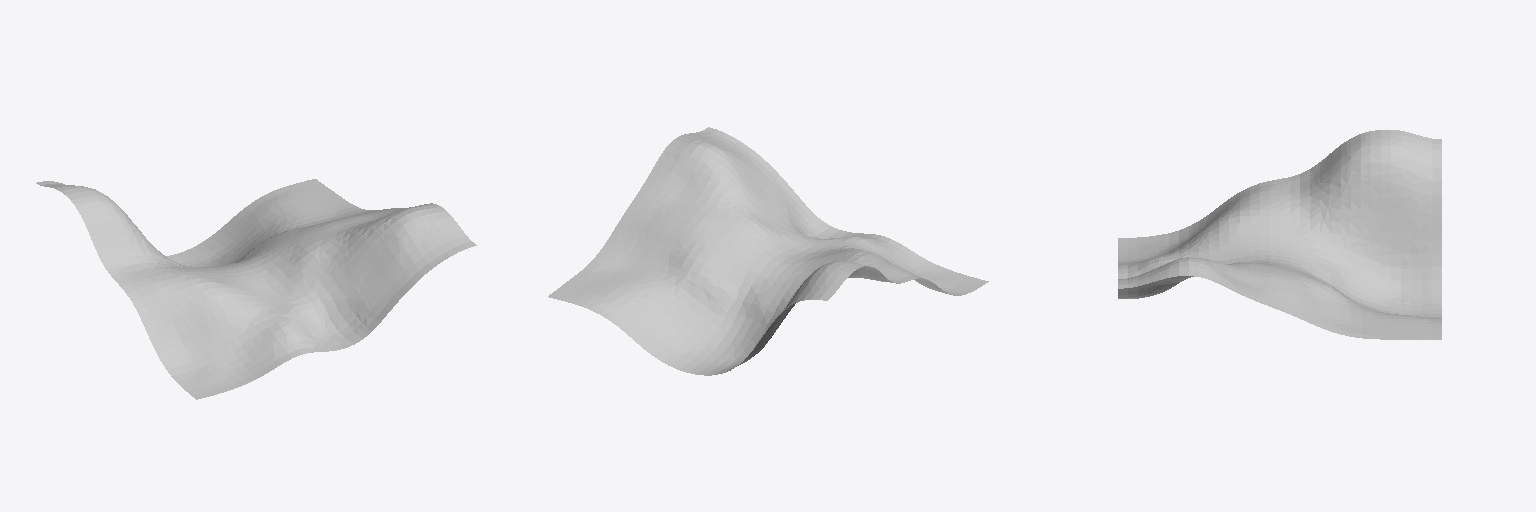
File: Mesh1_Poisson.obj
The picture shows the model from 3 angles: view 1: azimuth 30°, elevation 25°; view 2: azimuth 150°, elevation 25°; view 3: azimuth 270°, elevation 25°; orthographic projection.
Bounding box in the file's own units: 2.77 × 1.1 × 2.77.